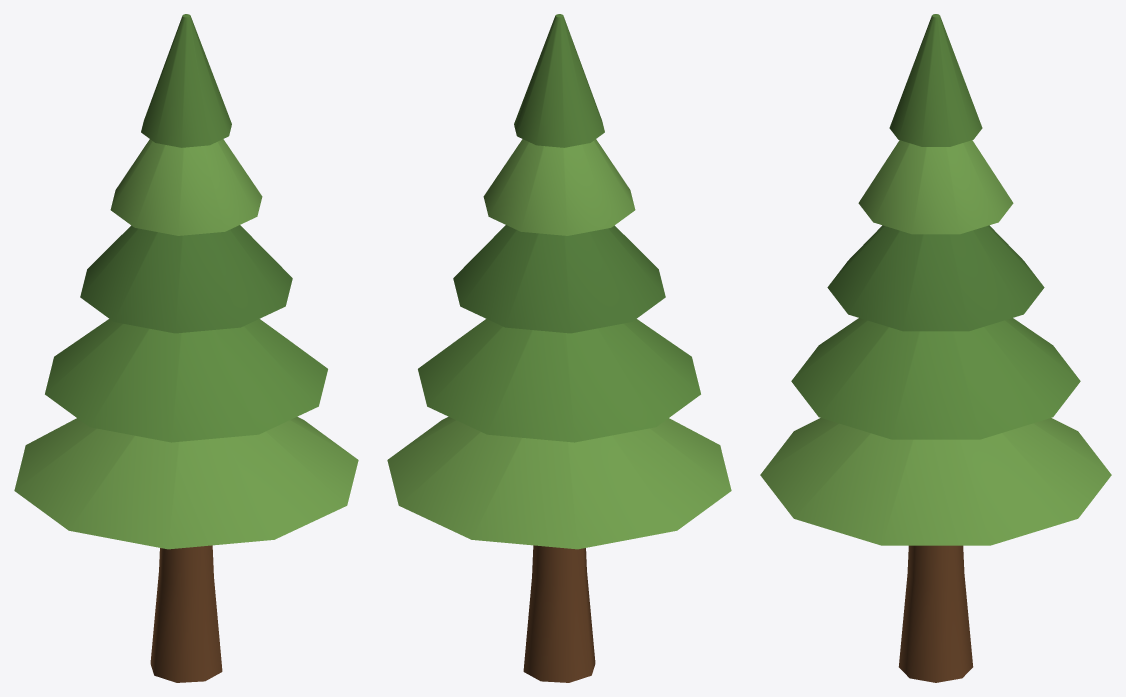
File: pine_tree_lod.glb
3 renders of one model, left to right at view 1: azimuth 30°, elevation 25°; view 2: azimuth 150°, elevation 25°; view 3: azimuth 270°, elevation 25°, orthographic.
Visible parts, largest first — view 1: pine_tree_lod; view 2: pine_tree_lod; view 3: pine_tree_lod.
Boxes of the visible parts, <box> form: pine_tree_lod: <box>14,14,358,682</box>; pine_tree_lod: <box>387,14,731,682</box>; pine_tree_lod: <box>760,14,1111,682</box>.
Bounding box in the file's own units: 6.47 × 13.91 × 6.8.
